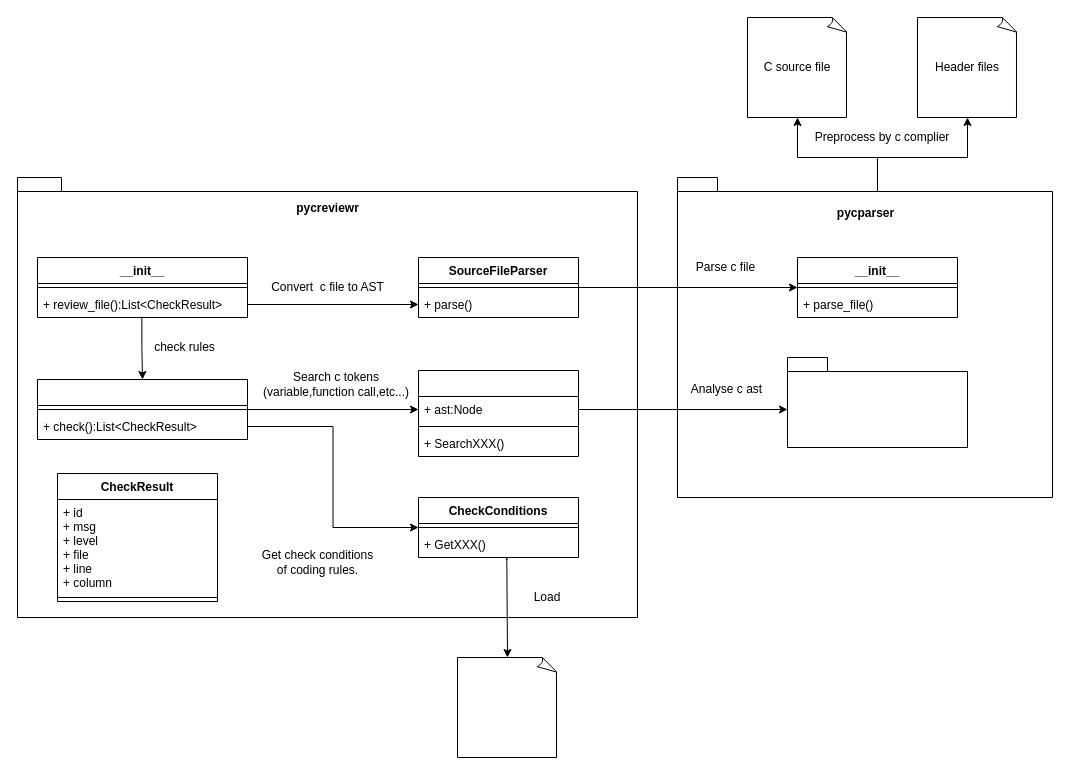
This 1070x775 diagram has some shape labels left out. The shapes that lost their labels are listed below. From the top down, each one's box as (x1, y1, x2, y2) in pixels, then its label:
(36, 378, 248, 440): CodingRules
(418, 370, 578, 456): SourceCode
(786, 356, 968, 448): c_ast
(456, 656, 558, 758): JSON file
